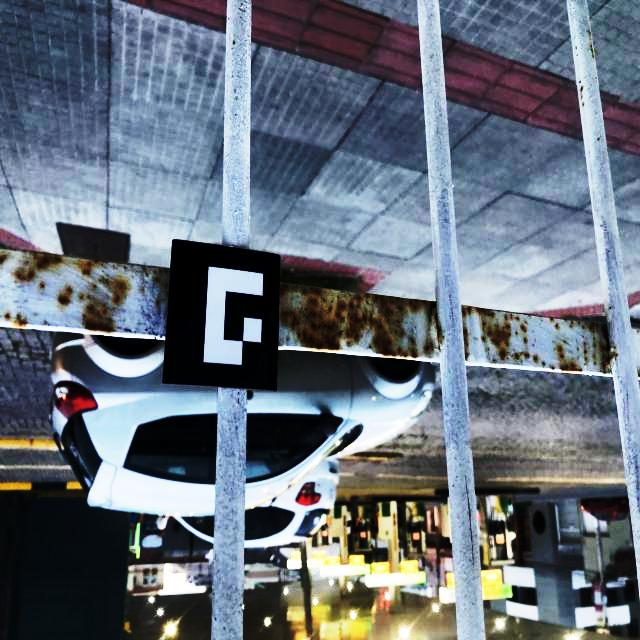Corrosion: (280, 282, 436, 359), (461, 304, 520, 362), (81, 301, 114, 336), (599, 324, 618, 375), (557, 344, 583, 374), (36, 253, 62, 271), (80, 260, 108, 276), (112, 280, 129, 304), (13, 268, 36, 285), (434, 312, 444, 351), (10, 312, 31, 328), (59, 287, 72, 308), (511, 351, 529, 361), (580, 86, 585, 107), (0, 254, 8, 265), (163, 281, 168, 298), (411, 347, 418, 359), (425, 343, 433, 353), (588, 323, 595, 334), (590, 43, 595, 58), (5, 313, 12, 319), (521, 325, 526, 333), (588, 30, 592, 40), (155, 277, 161, 283), (143, 269, 148, 276), (410, 338, 415, 344), (549, 365, 555, 370), (533, 356, 538, 362), (164, 269, 169, 275), (524, 337, 528, 344), (555, 323, 559, 330), (40, 283, 44, 290), (93, 284, 98, 288), (80, 295, 84, 300), (278, 342, 281, 347), (638, 371, 640, 378), (515, 331, 518, 335), (524, 321, 528, 324), (551, 317, 554, 321), (542, 362, 545, 366), (584, 350, 587, 354), (157, 300, 159, 306), (585, 356, 587, 361), (493, 359, 496, 362), (594, 361, 596, 365), (563, 341, 567, 343), (575, 46, 577, 50), (233, 41, 235, 45), (582, 325, 584, 328)
